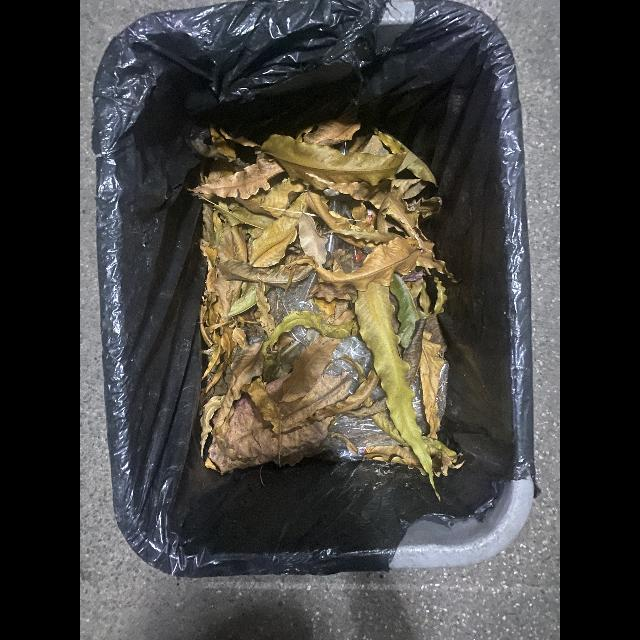biowaste: (355, 283, 440, 499), (278, 236, 421, 292), (255, 134, 407, 186), (249, 193, 317, 267), (279, 336, 342, 402), (264, 312, 360, 354), (187, 159, 285, 199), (298, 202, 328, 267)
